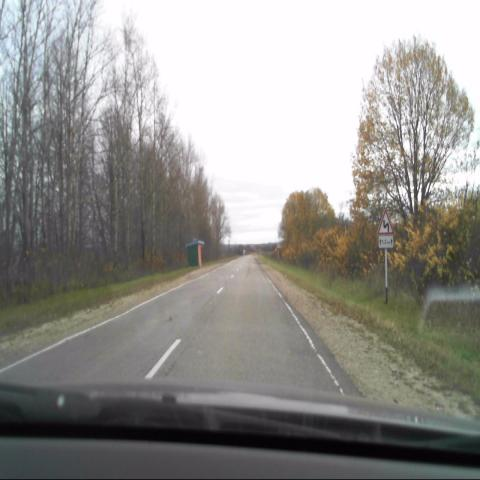1_12_2: (378, 210, 393, 234)
